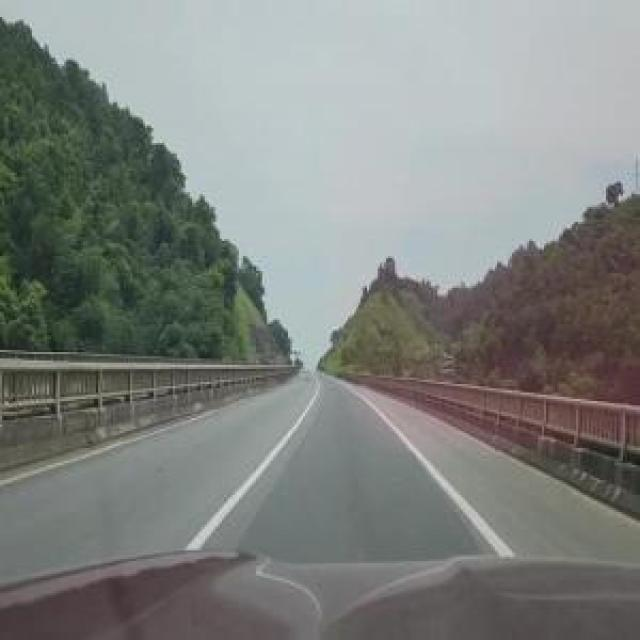clear-road: (0, 371, 640, 584)
